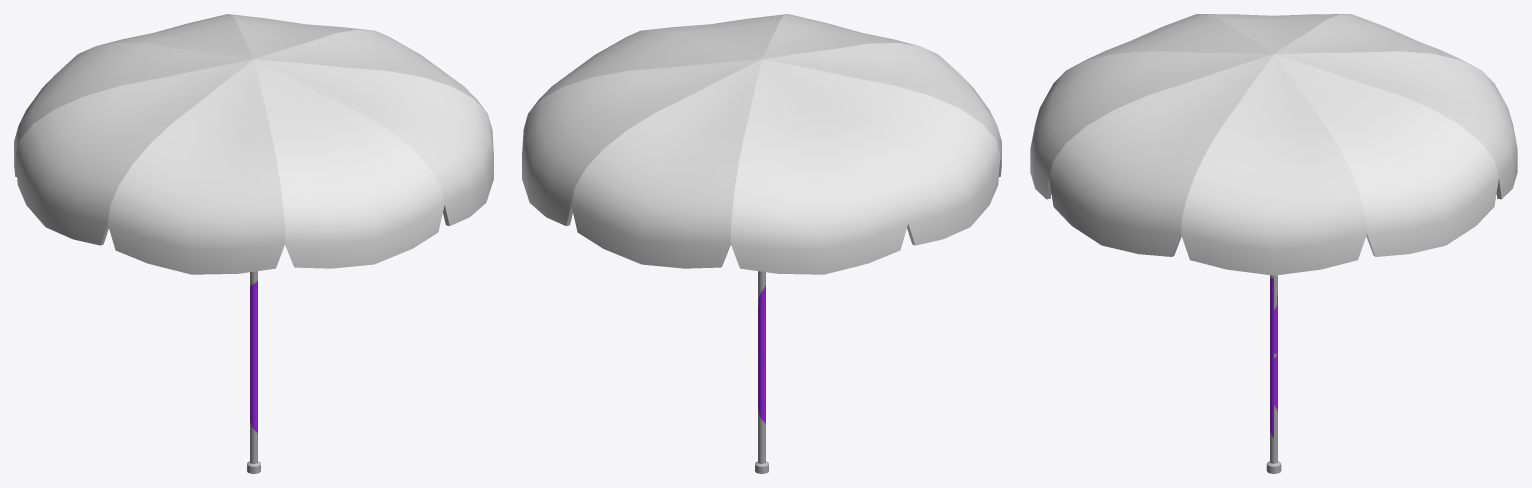
File: SM_IceCreamCart_Umbrella.fbx
3 views of the same model, side by side, from view 1: azimuth 30°, elevation 25°; view 2: azimuth 150°, elevation 25°; view 3: azimuth 270°, elevation 25° (orthographic).
Visible parts, largest first — view 1: SM_IceCreamCart_Umbrella; view 2: SM_IceCreamCart_Umbrella; view 3: SM_IceCreamCart_Umbrella.
Boxes of the visible parts, x1,y1,x2,y2 form: SM_IceCreamCart_Umbrella: [14, 14, 493, 473]; SM_IceCreamCart_Umbrella: [522, 14, 1001, 473]; SM_IceCreamCart_Umbrella: [1030, 14, 1517, 473].
Bounding box in the file's own units: 211 × 199 × 211.
